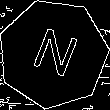N_S: (25, 23, 81, 85)
